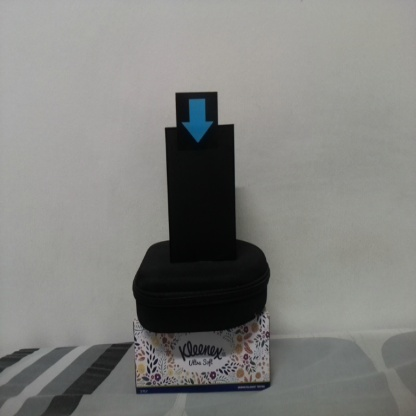id_2: (175, 92, 218, 149)
